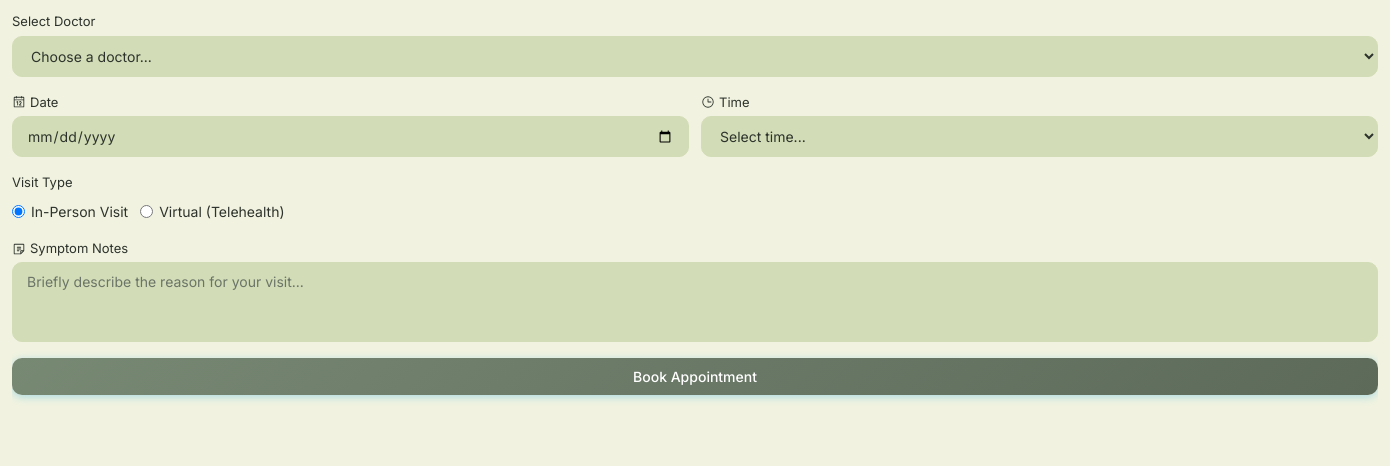
Scenario: Forms Component Validation Tests › BookingForm displays validation errors for incorrect inputs
What coordinates should you click on to do the following:
click the button "Book Appointment"
I would click on:
 (695, 377)
Its box is [12, 358, 1378, 395].
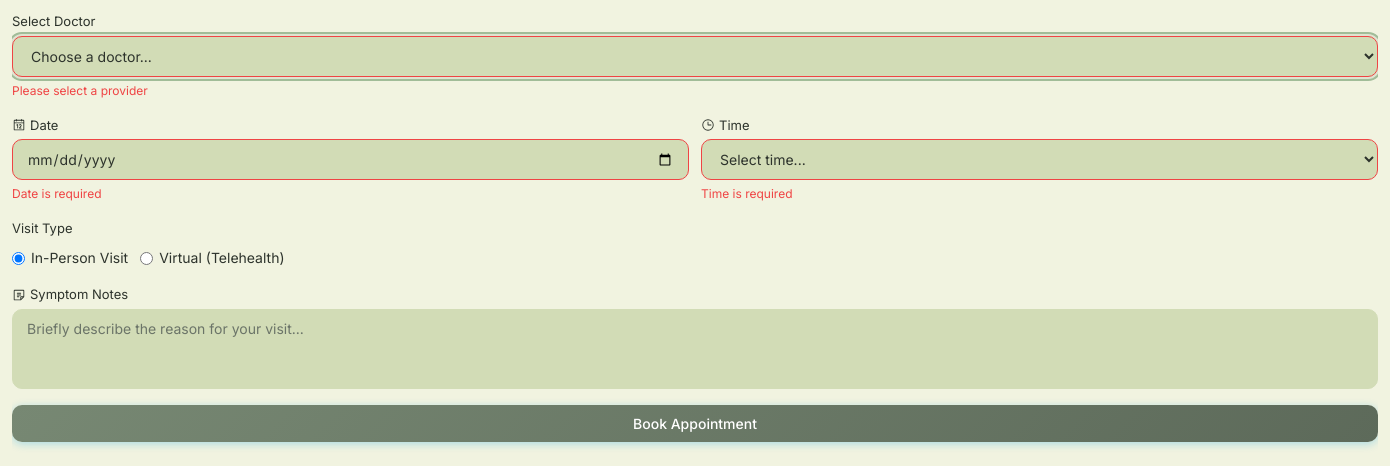
Now the text "Please select a provider" is shown, box [12, 82, 148, 98]
